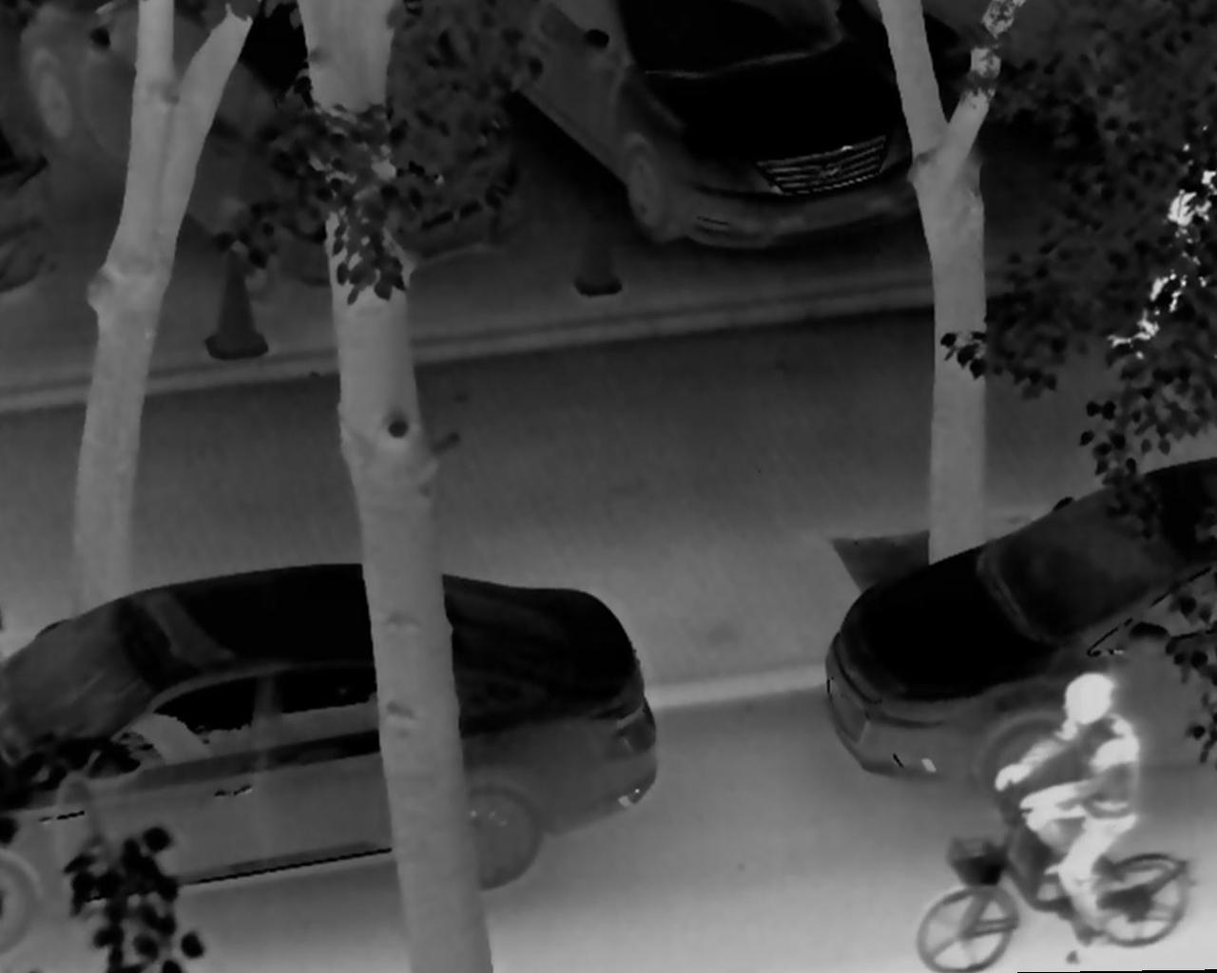person: (977, 650, 1144, 966), (1108, 109, 1217, 381)
